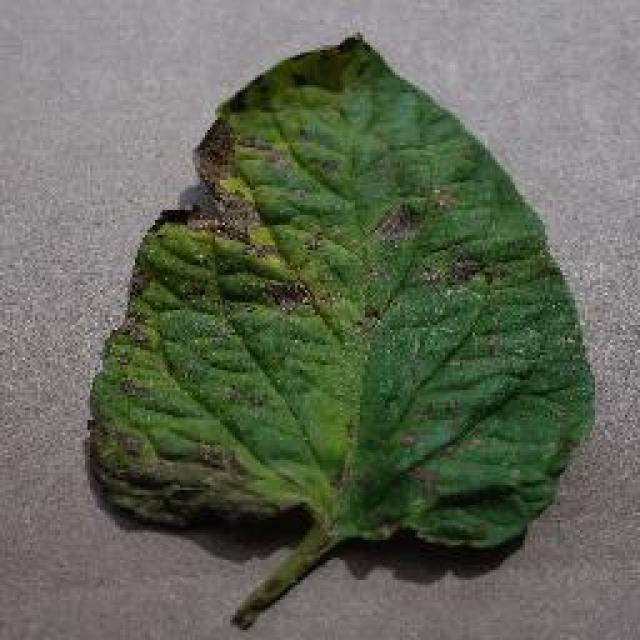Tomato Early blight leaf: (95, 36, 595, 594)
